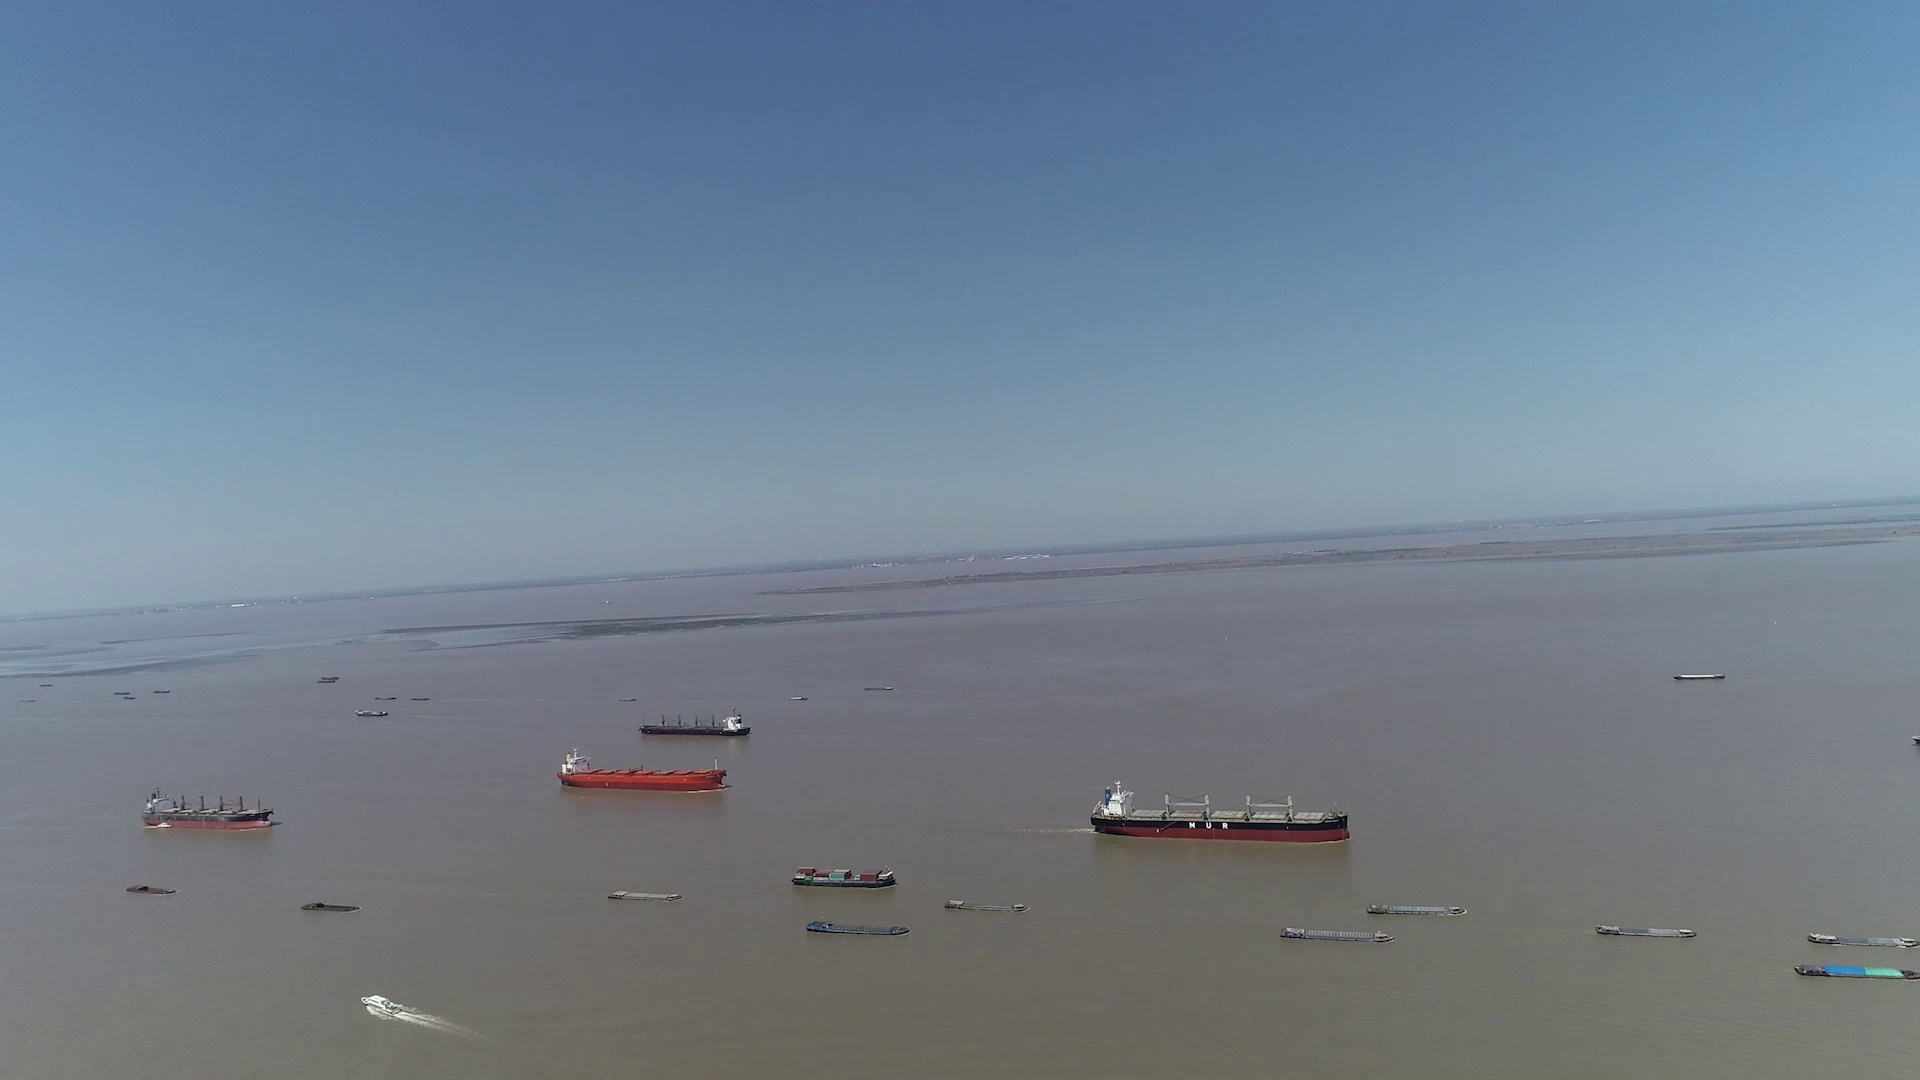ship: (1093, 781, 1346, 845), (558, 752, 725, 793), (141, 786, 276, 828), (640, 708, 750, 736), (1793, 960, 1919, 981), (790, 864, 898, 887), (1275, 926, 1393, 945), (1811, 928, 1919, 949), (807, 919, 911, 936), (1597, 922, 1695, 939), (1367, 902, 1464, 916), (944, 895, 1025, 913), (604, 889, 682, 902), (363, 996, 411, 1015), (301, 901, 357, 913), (124, 884, 175, 895), (1676, 673, 1724, 680), (353, 707, 385, 716)
